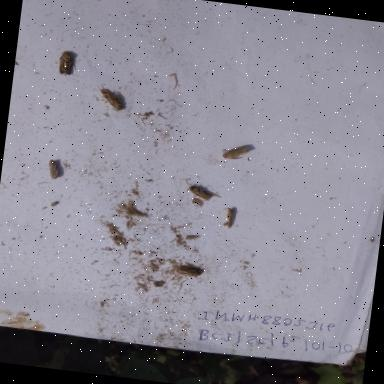pbw: (164, 256, 208, 286), (218, 134, 258, 166), (92, 82, 130, 114), (181, 178, 224, 204), (54, 44, 85, 78), (43, 156, 65, 182), (221, 204, 243, 230)
